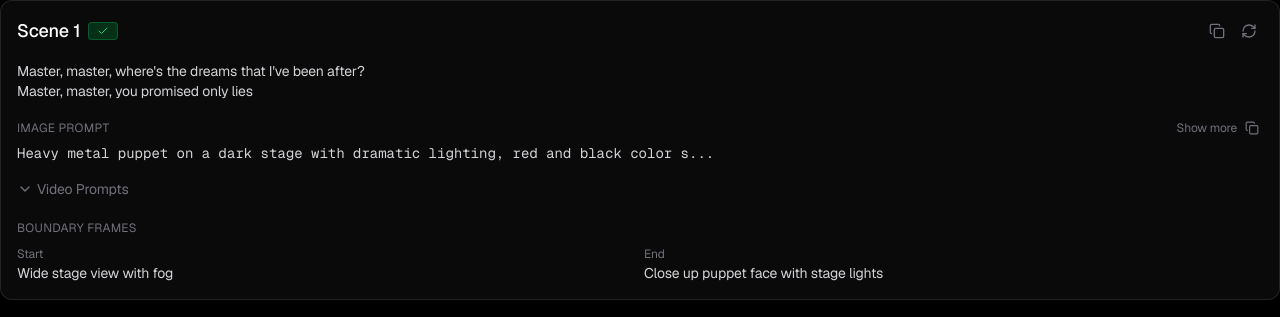
SceneCard › Scene Content › expands image prompt on click
What coordinates should you click on to do the following:
click the button with test id "expand-image-prompt"
I would click on:
 (1207, 128)
Its box is 1177,120 -> 1237,136.
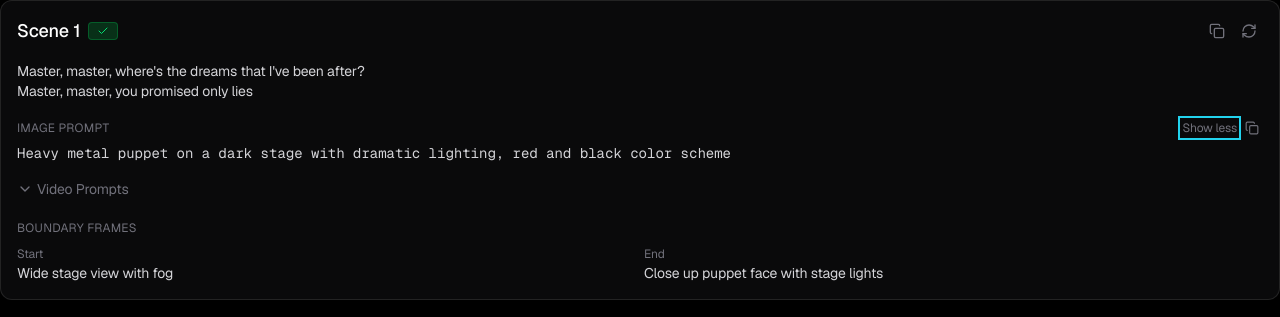
Result: the text "red and black color scheme" is shown at 17,144 -> 731,162
